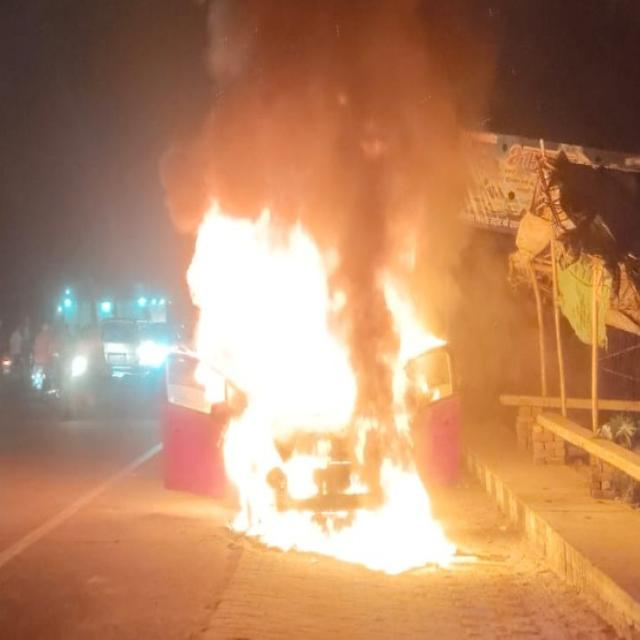fire: (189, 201, 356, 562), (382, 278, 456, 573), (355, 500, 383, 572)
